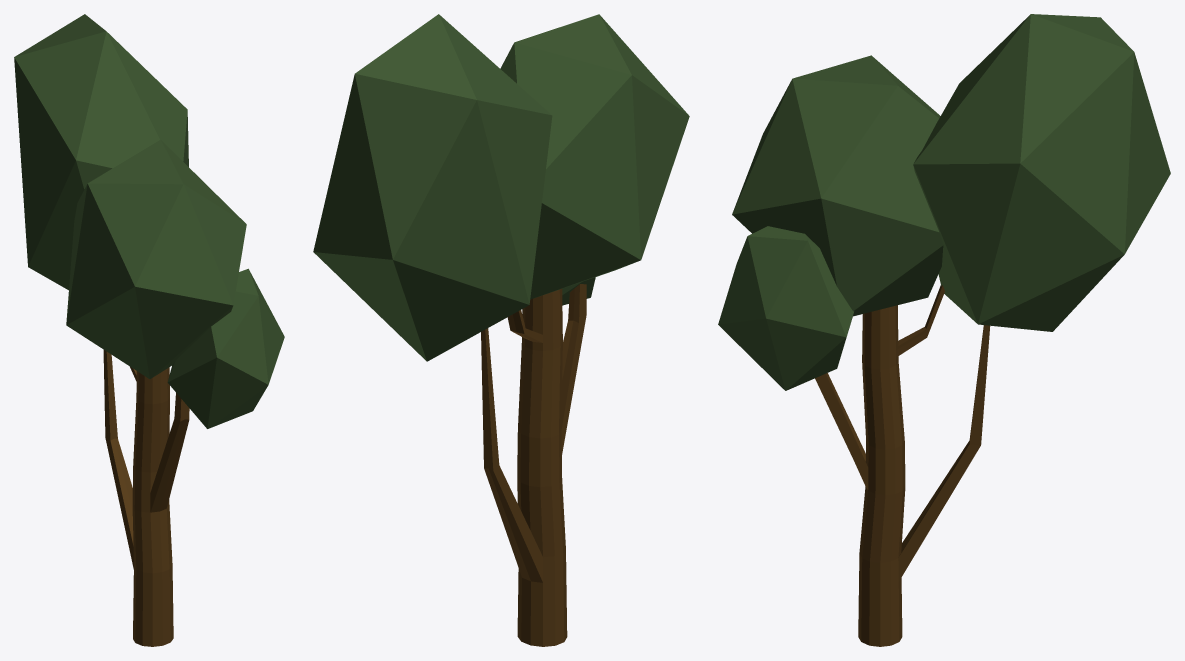
Rendered from ARVOREEXEMPLO2.fbx.
The picture shows the model from 3 angles, left to right: view 1: azimuth 30°, elevation 25°; view 2: azimuth 150°, elevation 25°; view 3: azimuth 270°, elevation 25°; orthographic projection. The views are drawn at different scales.
Parts seen in each view (by area): view 1: arvore2; view 2: arvore2; view 3: arvore2.
Part boxes in pixels (x1,y1,x2,y2): arvore2: (14, 14, 284, 646); arvore2: (313, 14, 689, 646); arvore2: (718, 14, 1170, 646).
Bounding box in the file's own units: 80.88 × 239 × 154.
